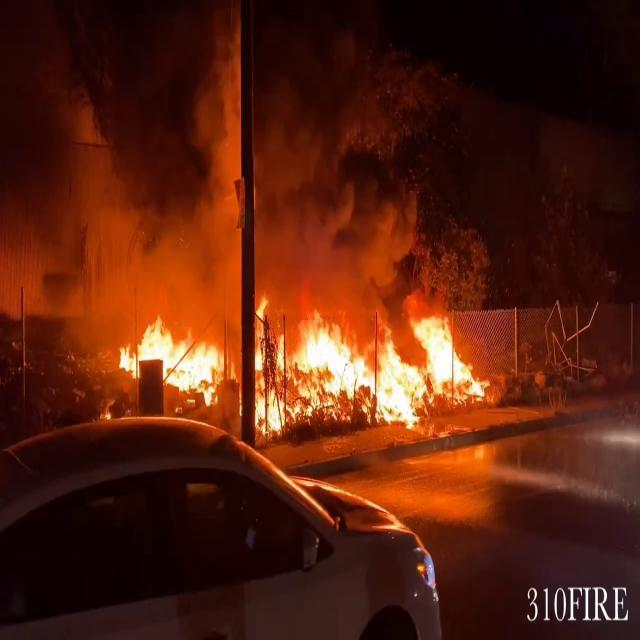Fire: (106, 288, 490, 432)
Smoke: (1, 10, 430, 302)
